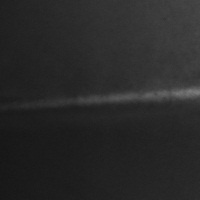scratches: (27, 84, 199, 110)
